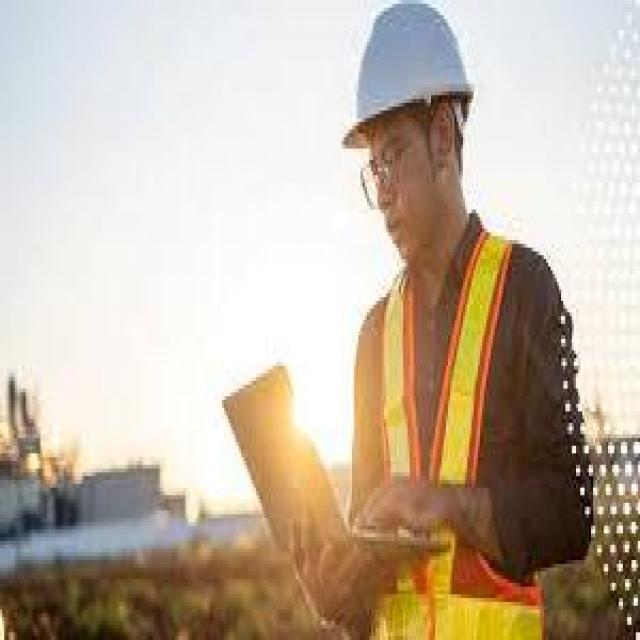reflective_jacket: (345, 225, 565, 625)
safety_helmet: (337, 0, 488, 164)
